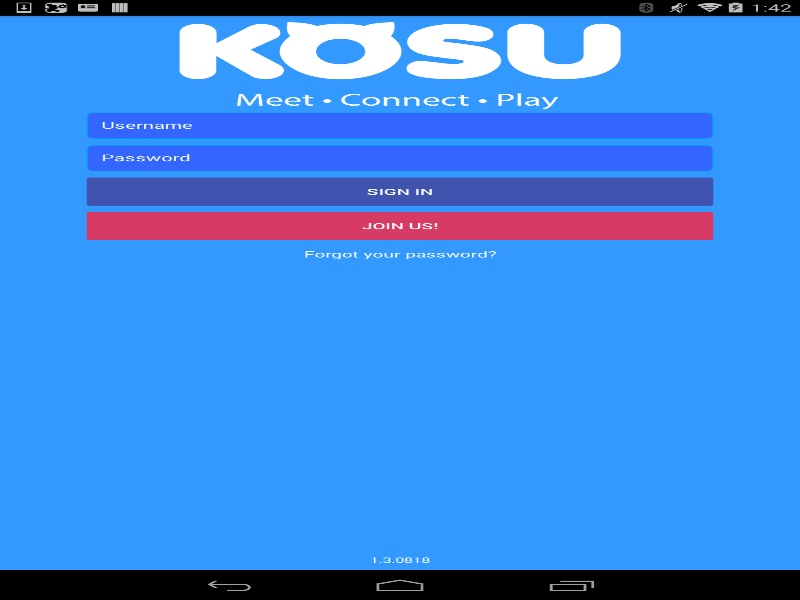Input: (94, 113, 705, 138), (94, 145, 705, 170)
